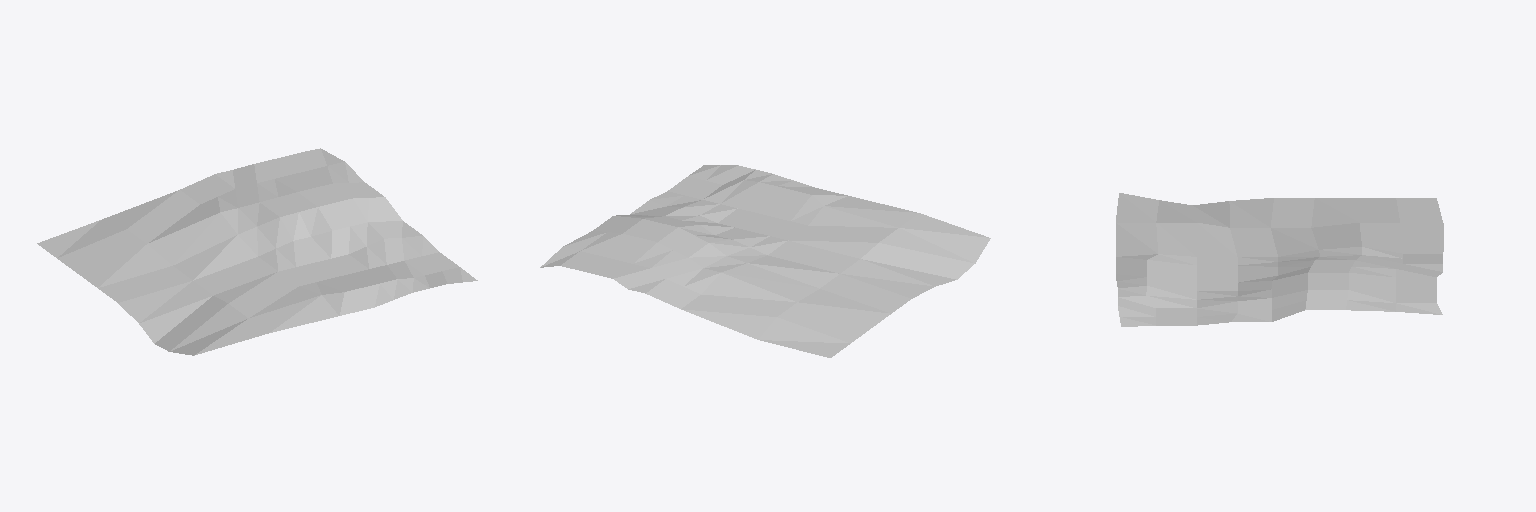
The model's file is GroundLowPoly.obj.
The picture shows the model from 3 angles: view 1: azimuth 30°, elevation 25°; view 2: azimuth 150°, elevation 25°; view 3: azimuth 270°, elevation 25°; orthographic projection.
Parts seen in each view (by area): view 1: Plane; view 2: Plane; view 3: Plane.
Part boxes in pixels (x1,y1,x2,y2): Plane: (37, 148, 477, 355); Plane: (540, 165, 990, 357); Plane: (1116, 193, 1443, 326).
Bounding box in the file's own units: 71.02 × 9.39 × 68.75.